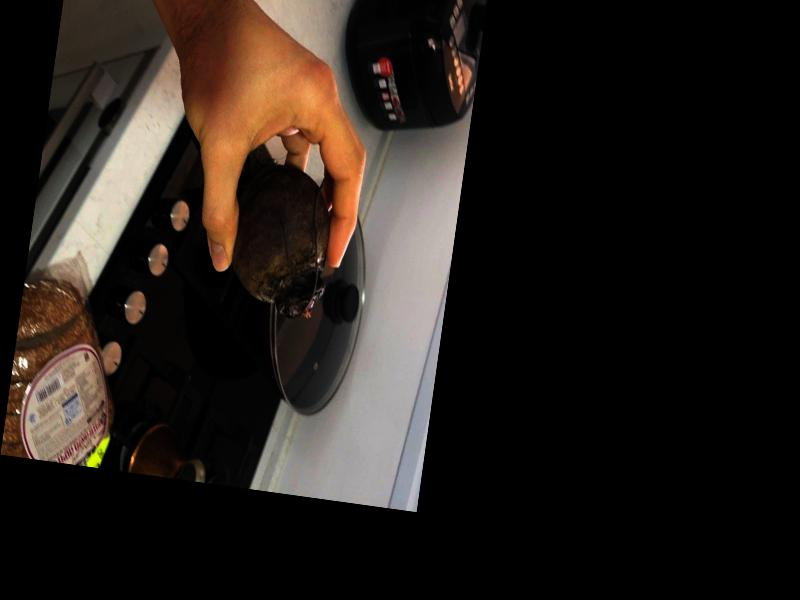Beet: (224, 150, 339, 322)
